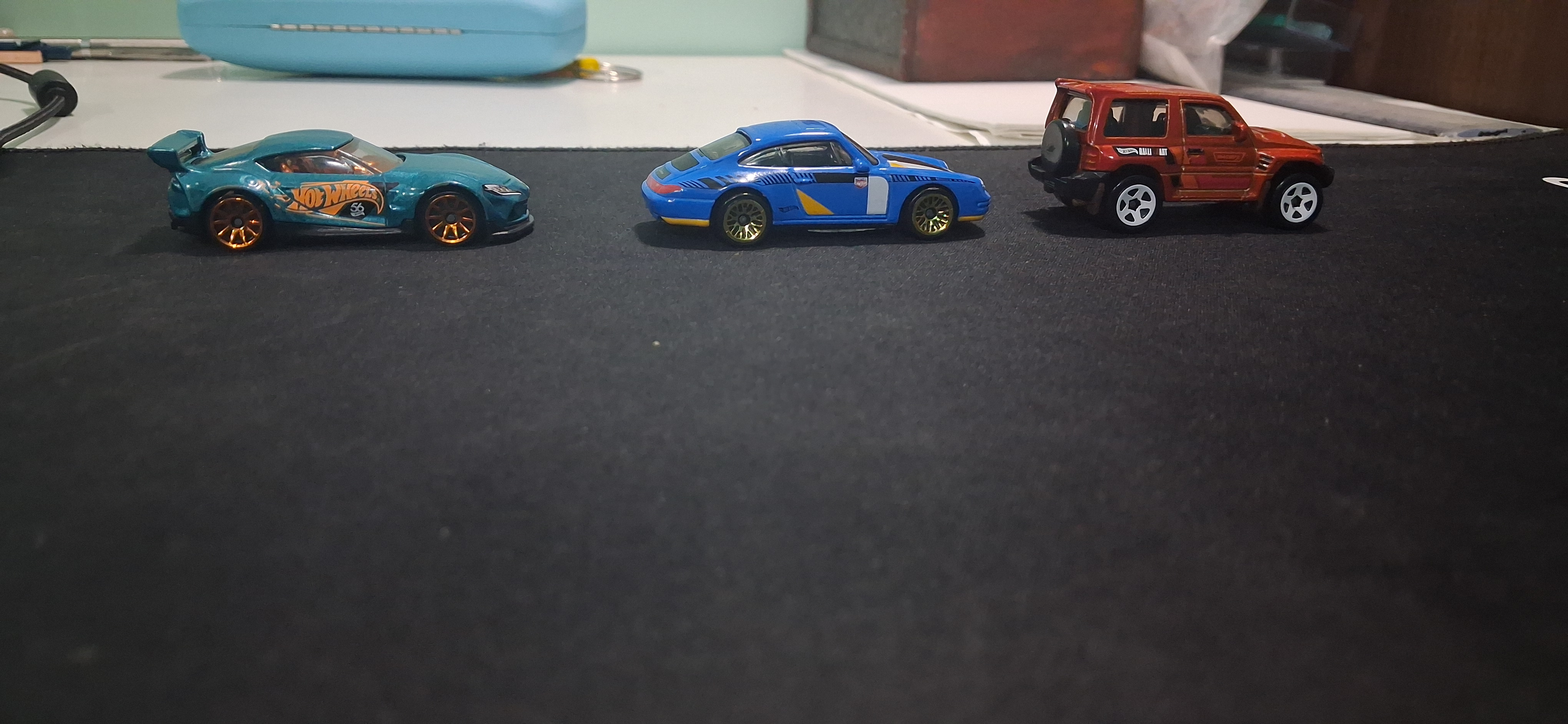Mitsubishi_Pajero_Evolution: (1026, 52, 1364, 270)
Porsche_Carrera: (595, 83, 1003, 290)
Toyota_GR_Supra: (114, 99, 551, 279)
